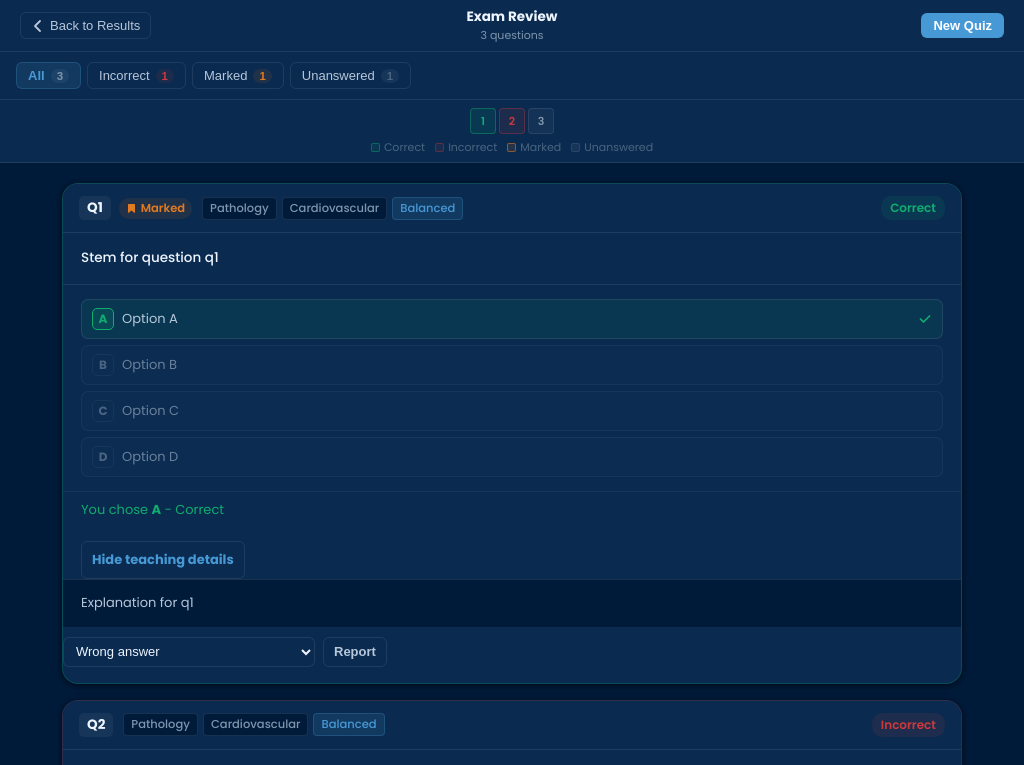
Scenario: ExamReview — full cards, not summaries › filter buttons change the displayed set without removing stem content
// Use start-anchor to match the filter tab "Incorrect 1" not navigator tiles "Question N, incorrect"
Click the button "Incorrect 1": (136, 76) [87, 62, 186, 89]
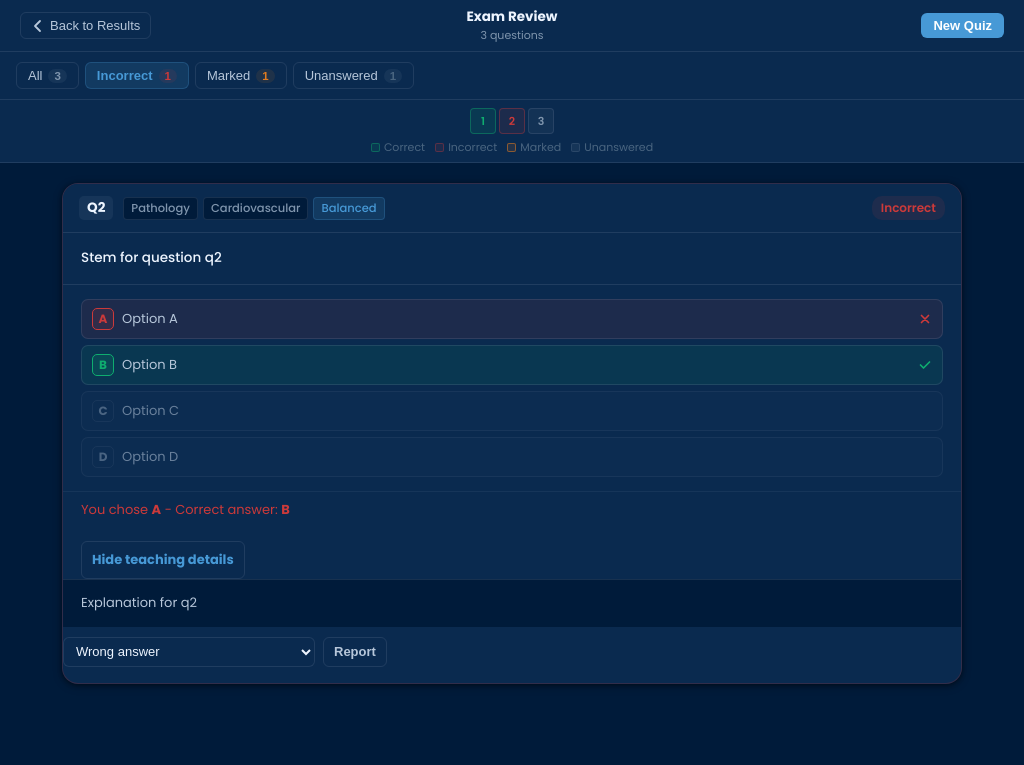
Expected: the text "Stem for question q2" is shown, [81, 248, 222, 267]
Now the text "Stem for question q1" is gone
